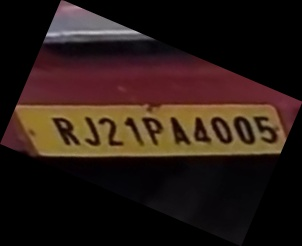character: (52, 114, 80, 148), (97, 116, 124, 148), (252, 113, 277, 144), (232, 114, 256, 145), (210, 113, 233, 145), (141, 114, 163, 147), (82, 113, 102, 148), (125, 113, 145, 148), (169, 114, 190, 147), (193, 115, 212, 145)
